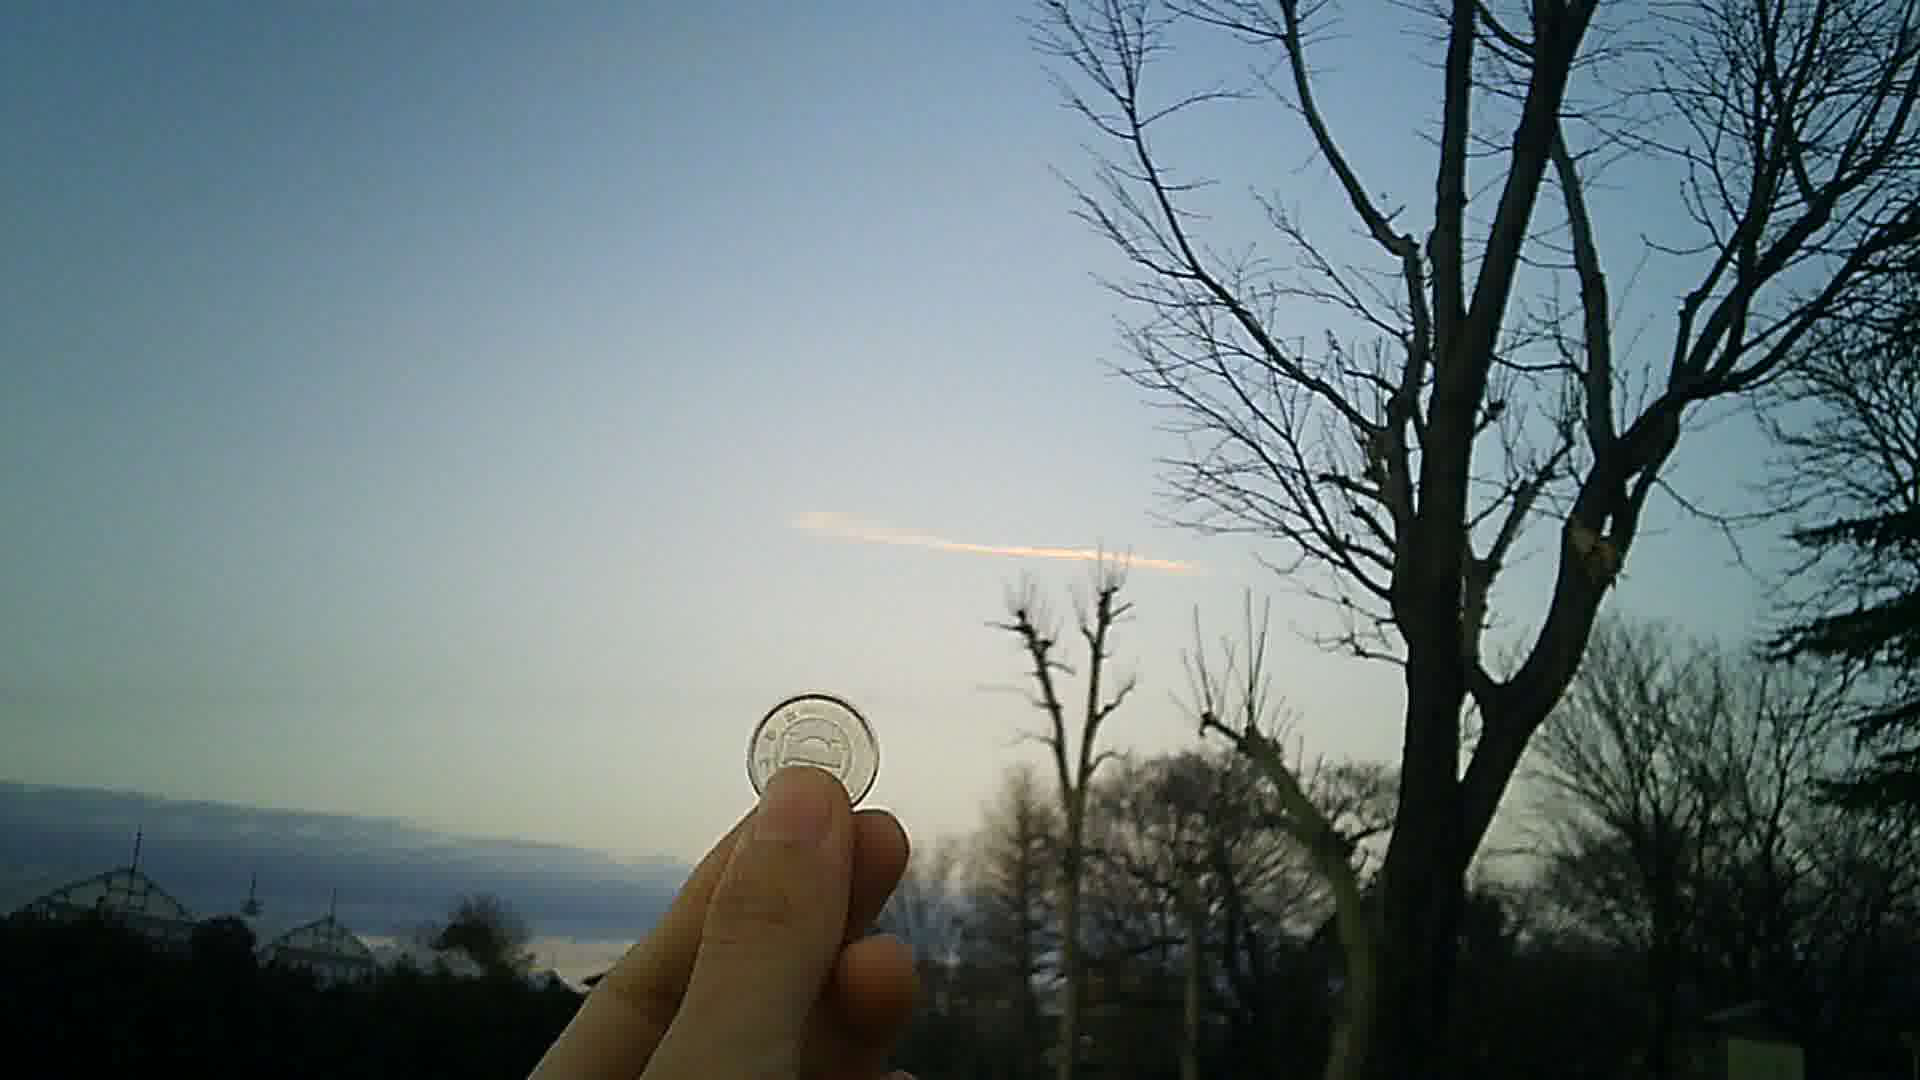1 Yen: (731, 683, 905, 818)
